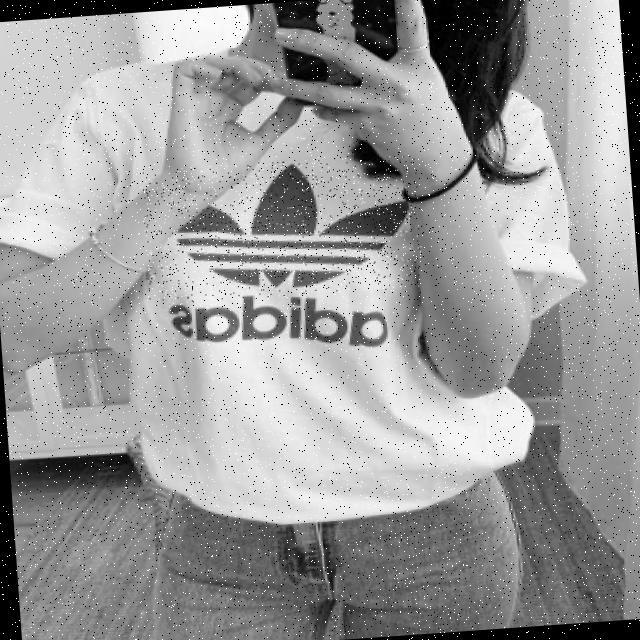Adidas: (140, 151, 424, 306)
